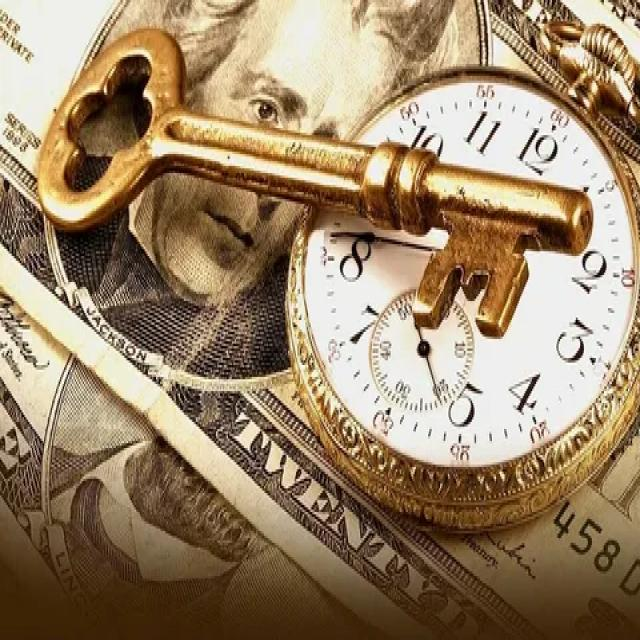key: (29, 20, 603, 337)
